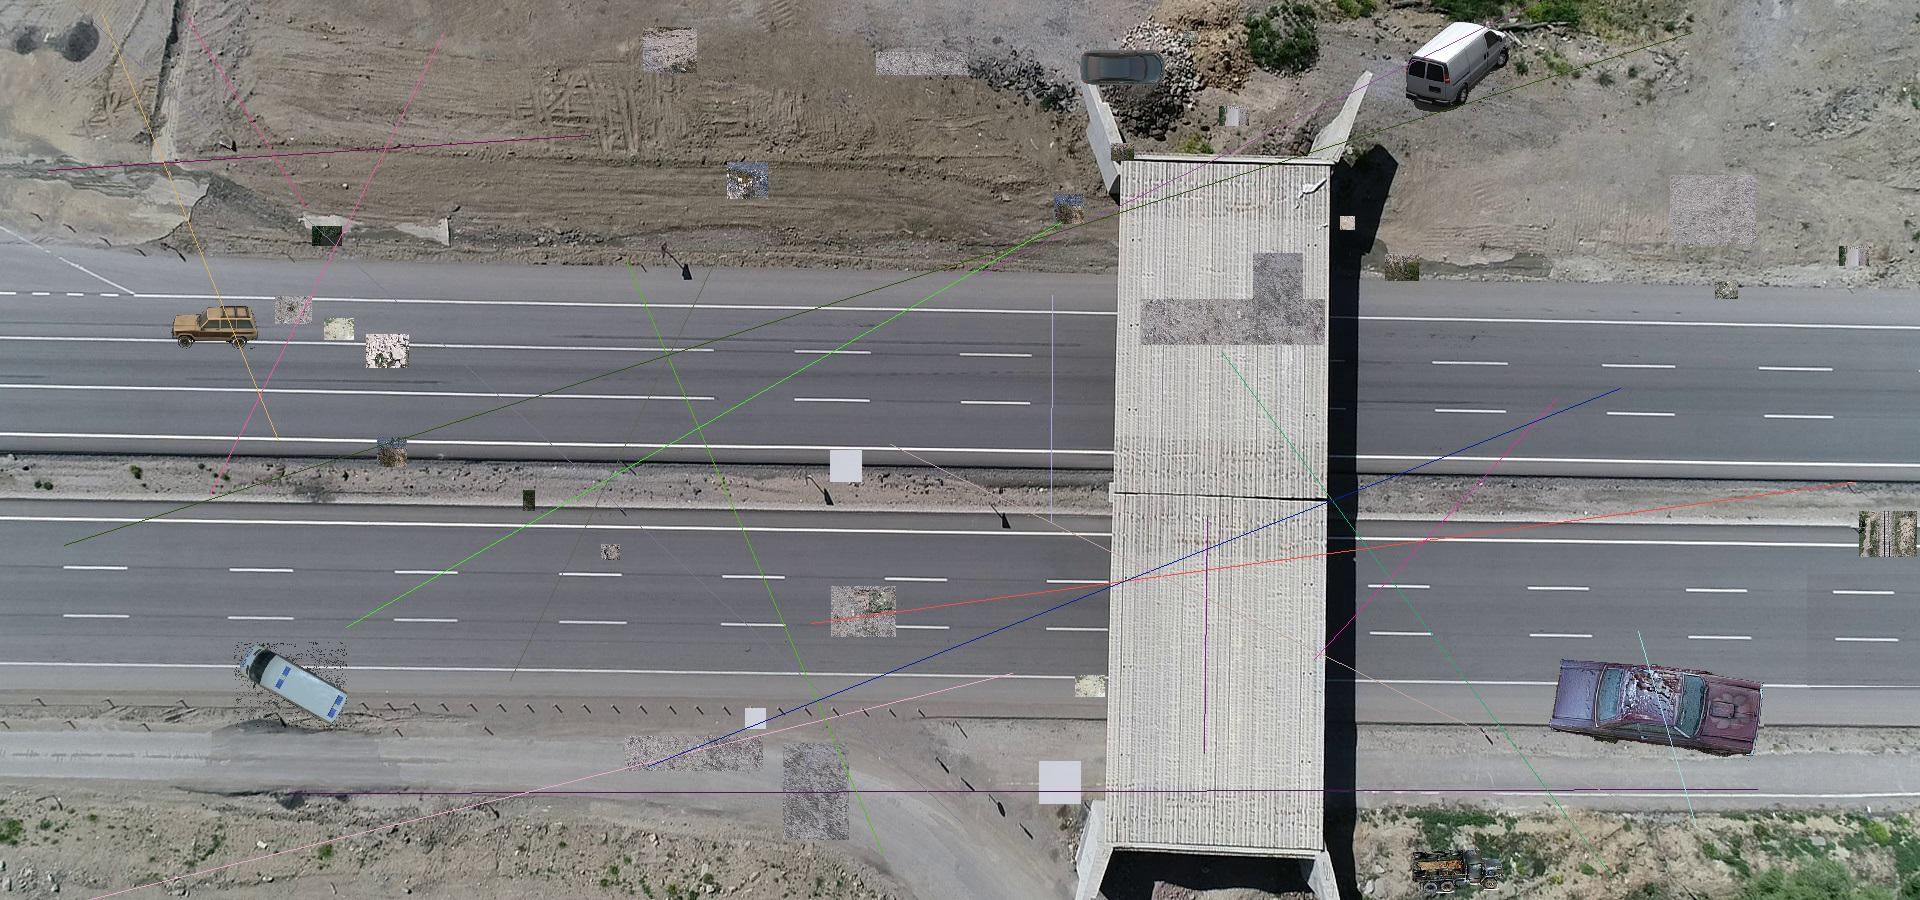arac: (1547, 650, 1764, 764), (234, 642, 347, 727), (1406, 21, 1510, 111), (1412, 847, 1505, 893), (170, 302, 260, 349), (1079, 48, 1164, 86)
